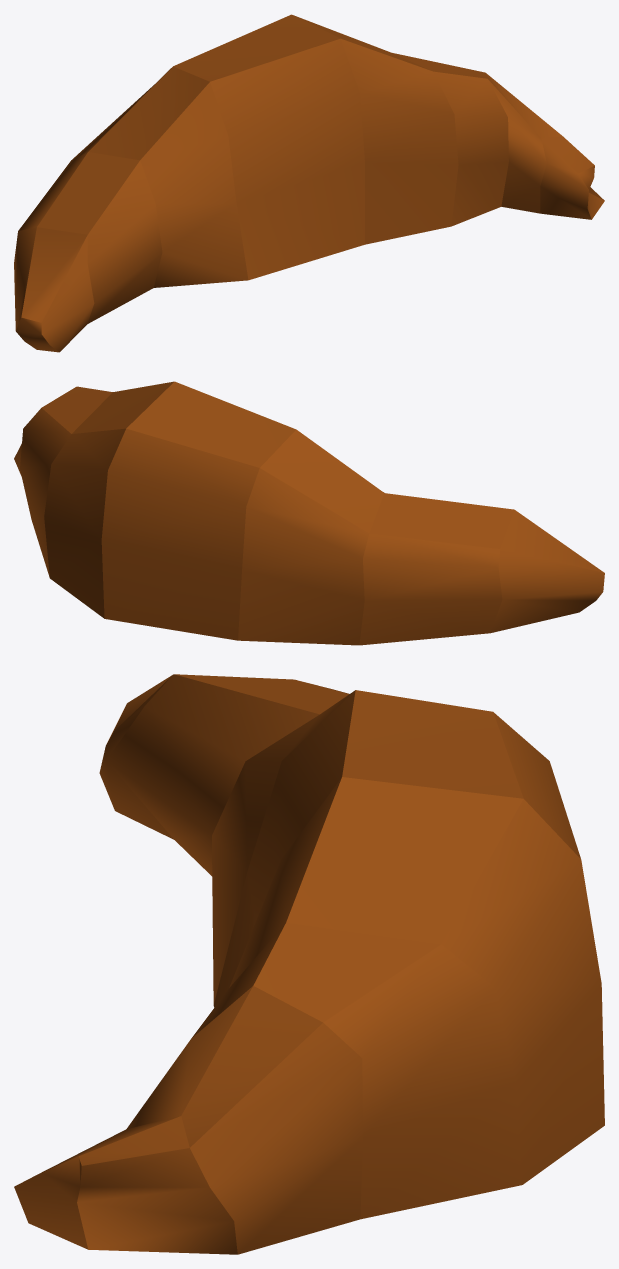
The model's file is croissant.fbx.
The picture shows the model from 3 angles, top to bottom: view 1: azimuth 30°, elevation 25°; view 2: azimuth 150°, elevation 25°; view 3: azimuth 270°, elevation 25°; orthographic projection. The views are drawn at different scales.
Parts seen in each view (by area): view 1: Croissant; view 2: Croissant; view 3: Croissant.
Part boxes in pixels (x1=…): Croissant: x1=14, y1=14, x2=604, y2=352; Croissant: x1=14, y1=381, x2=604, y2=645; Croissant: x1=14, y1=674, x2=604, y2=1254.
Bounding box in the file's own units: 3.53 × 1.1 × 1.7.
